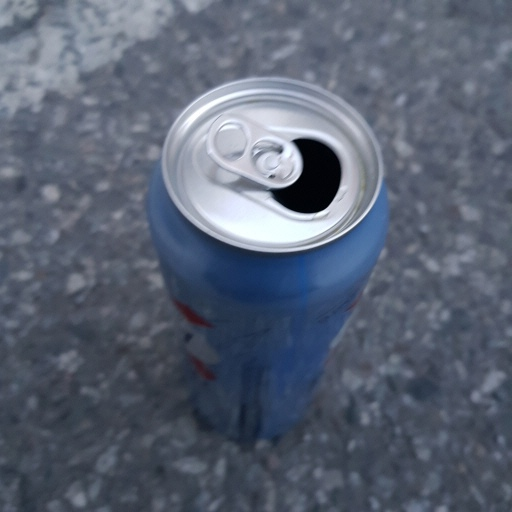Metal_0: (147, 77, 392, 443)
